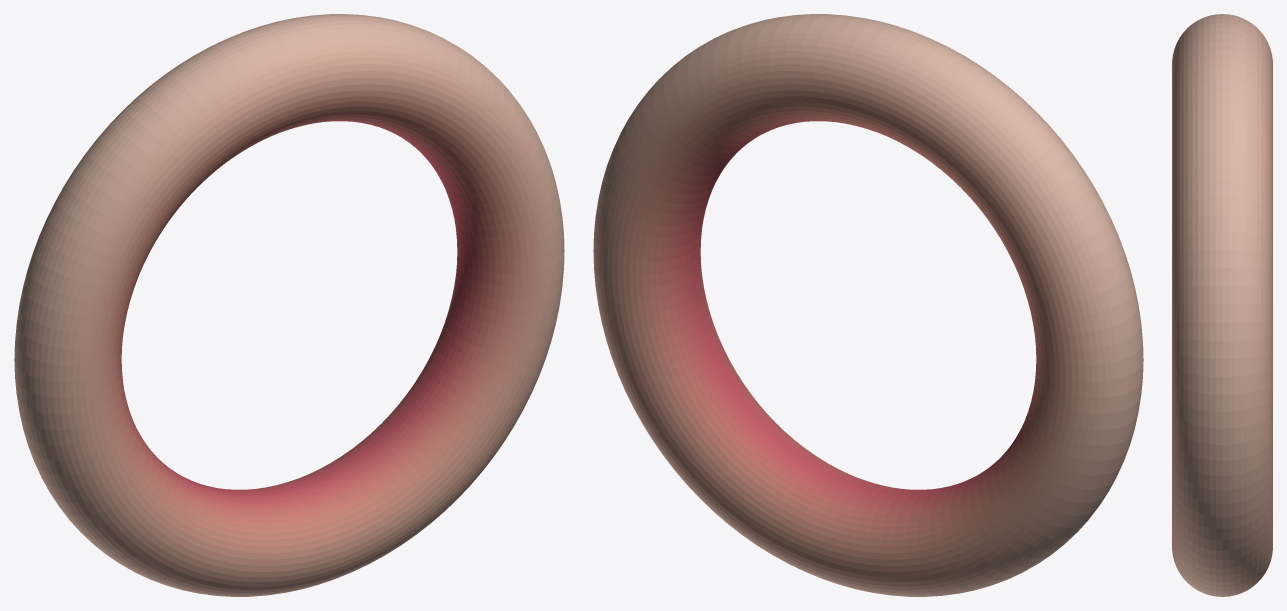
3 views of the same model, side by side, from view 1: azimuth 30°, elevation 25°; view 2: azimuth 150°, elevation 25°; view 3: azimuth 270°, elevation 25° (orthographic). The views are drawn at different scales.
Visible parts, largest first — view 1: world; view 2: world; view 3: world.
Part boxes in pixels (x1,y1,x2,y2): world: (14, 14, 564, 596); world: (593, 14, 1143, 596); world: (1172, 14, 1272, 596).
Size of the model in its own units: 33.07 by 33.07 by 5.72.
